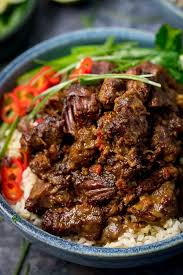rendang: (8, 34, 183, 247)
